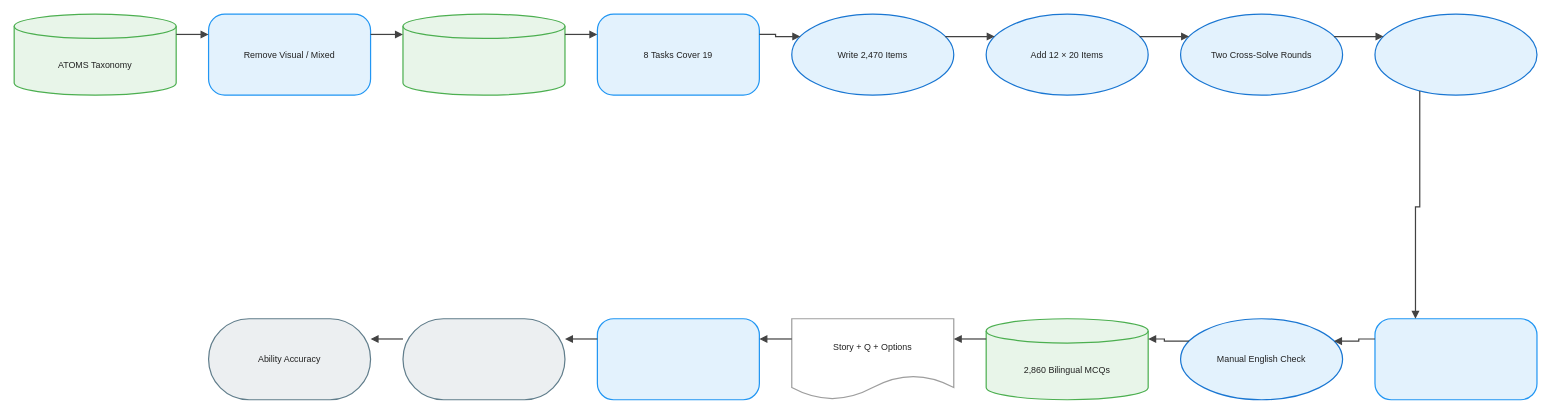
The diagram is 1552 pixels wide and 415 high, and some of its shapes have lost their labels. Each missing label, with the centre of its shape:
6 Dimensions / 31 Abilities: [483,54]
GPT-4 Translation: [1455,359]
Parse Choice: [678,359]
Task Accuracy: [483,359]
Third-Author Adjudication: [1455,54]
